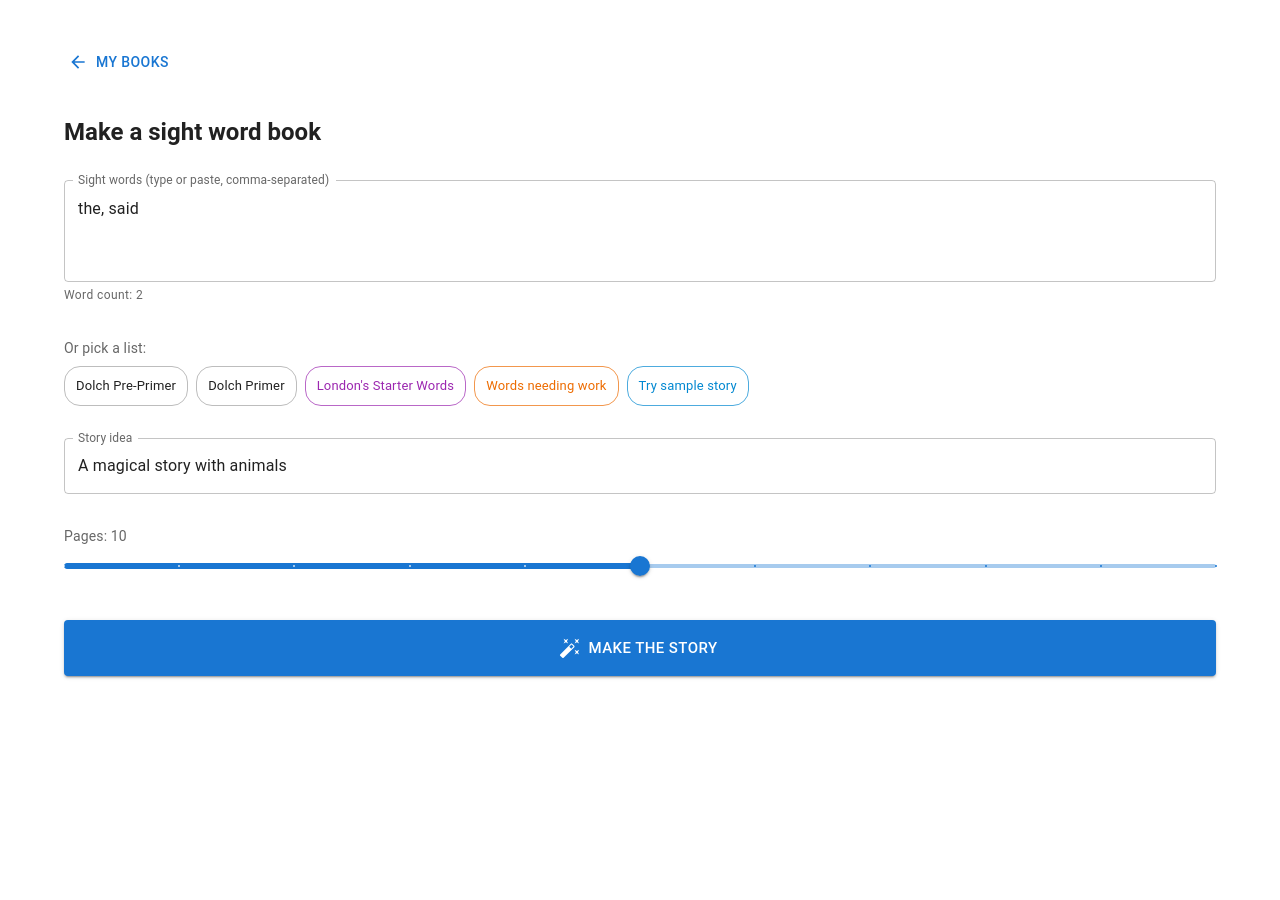
Test case: UX-119 — missed words are checked against the pages › reports a word the pages really do not hold
This screenshot has width=1280, height=900.
Step 1. Click the button "Make the story" → (640, 648), box [64,620,1216,676]
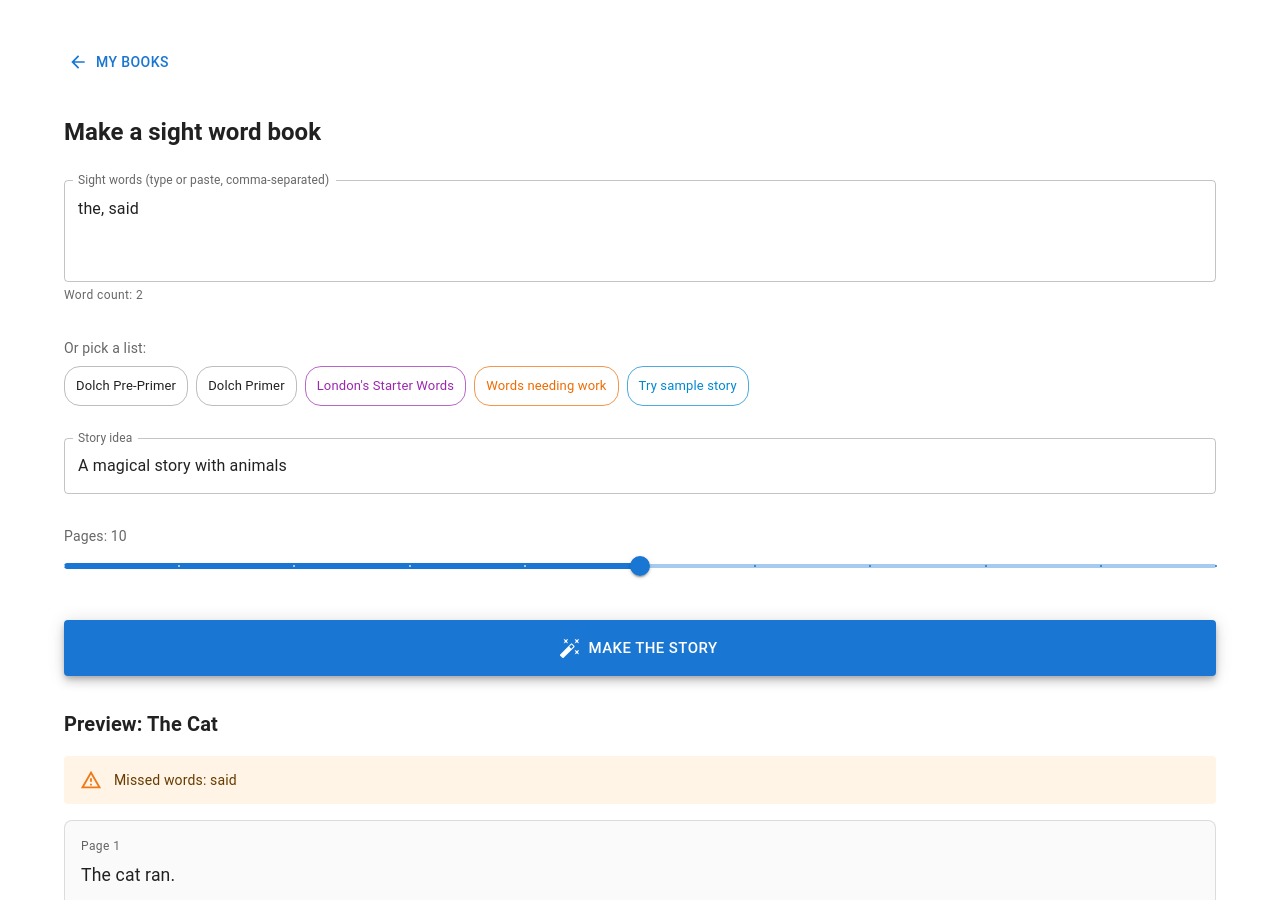
Now the text "Missed words: said" is shown, box [114,772,237,788]
